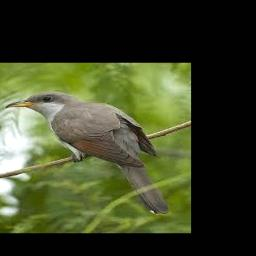Cuckoo: (6, 91, 169, 215)
